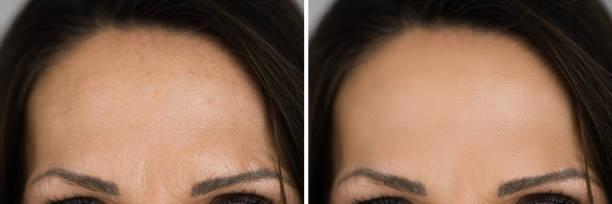Dry-Skin: (146, 41, 218, 109), (77, 69, 106, 156), (146, 157, 179, 197)
